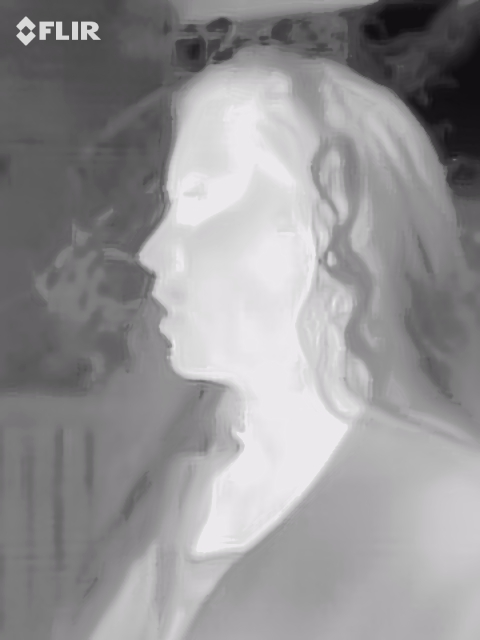head: (141, 46, 384, 387)
